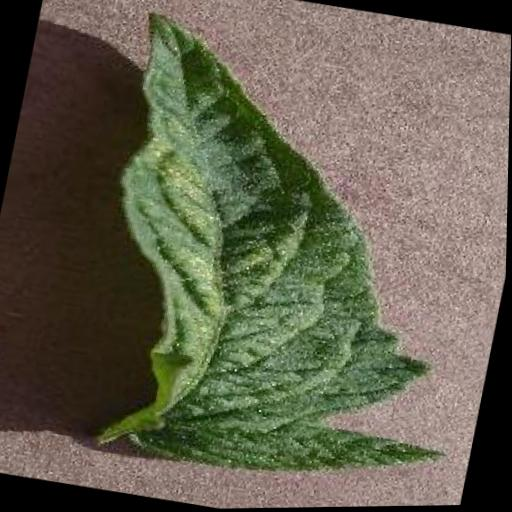Spider Mites: (62, 0, 512, 511)
